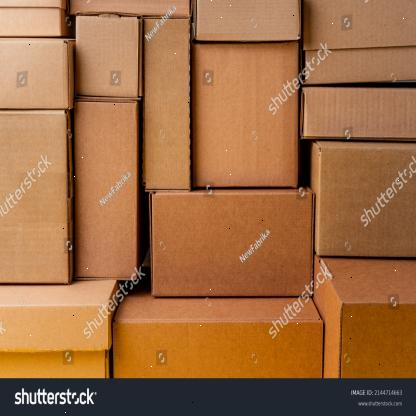box: (150, 189, 316, 301), (192, 40, 300, 190), (112, 315, 322, 379), (0, 108, 73, 286), (316, 141, 416, 262), (73, 100, 138, 284), (0, 298, 111, 380), (144, 15, 192, 189), (302, 84, 416, 142), (72, 15, 142, 102), (302, 0, 415, 50), (341, 303, 416, 378), (0, 36, 72, 111), (304, 44, 416, 87), (195, 0, 302, 43), (0, 0, 67, 38)
